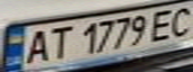1: (75, 19, 100, 55)
7: (93, 17, 118, 52), (112, 15, 136, 51)
9: (127, 11, 154, 48)
A: (18, 26, 54, 65)
C: (163, 3, 193, 38)
E: (148, 7, 181, 42)
T: (42, 24, 75, 61)
